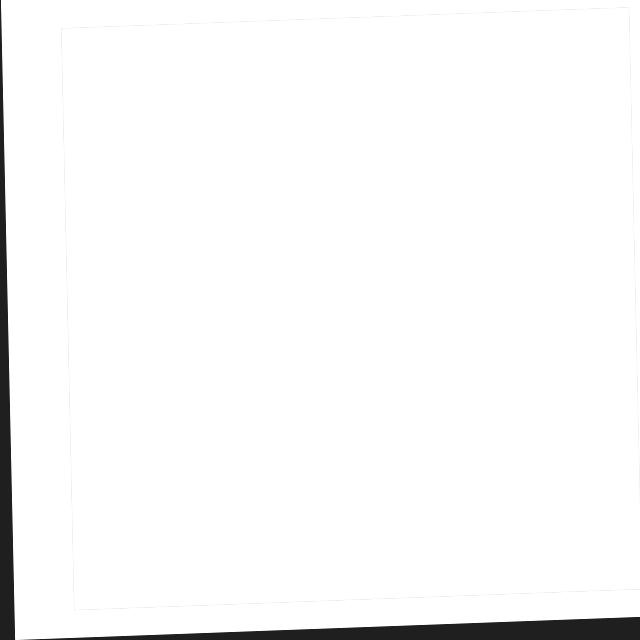qr_code: (61, 13, 638, 610)
